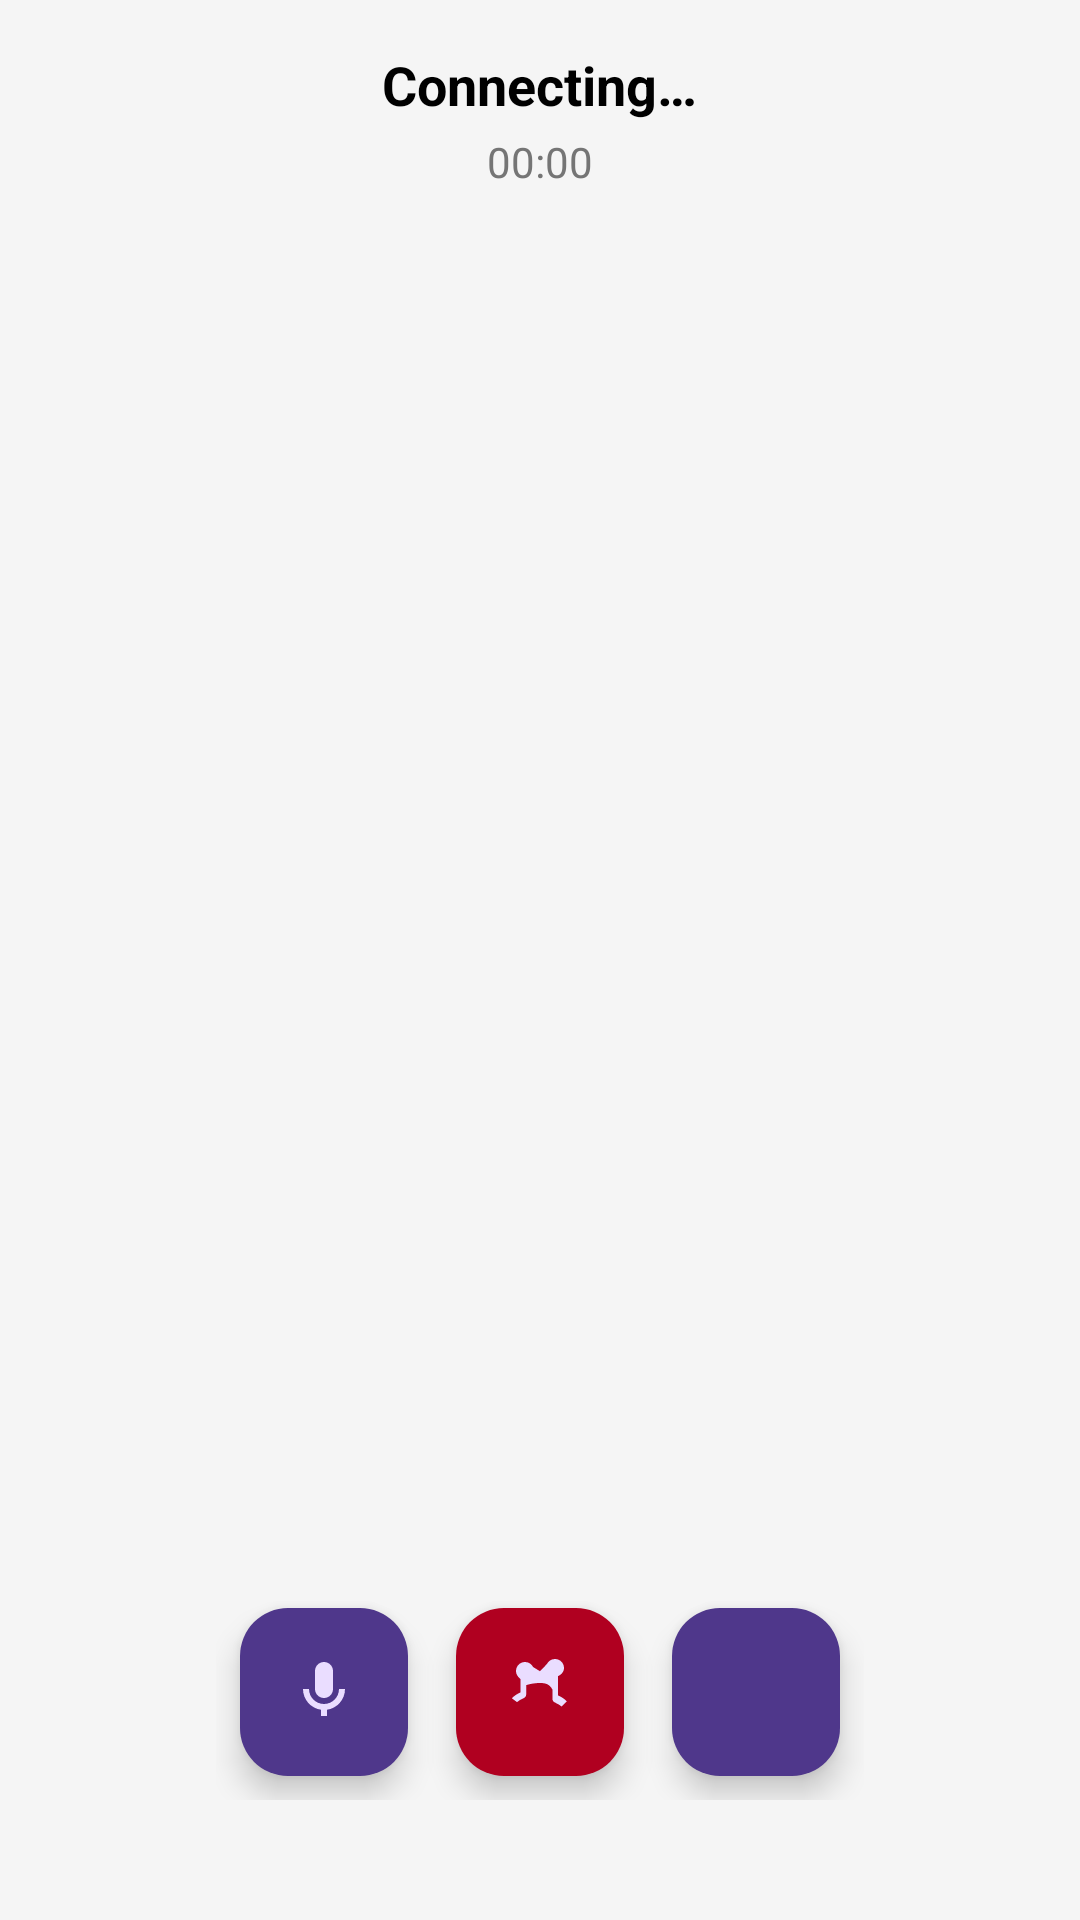

Locate icon controls on the screen. Image size 1080 x 1920, boxes as (x1, y1, x2, y2).
Hang up: (456, 1608, 624, 1776)
Mute: (240, 1608, 408, 1776)
